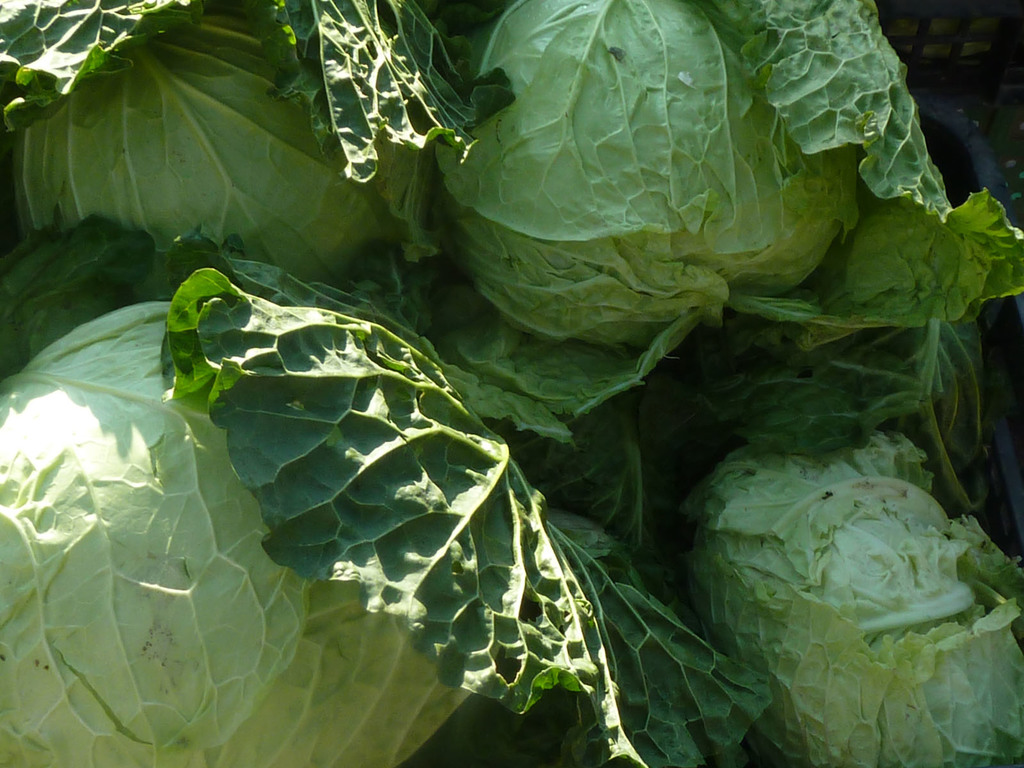Cabbage: (0, 0, 1023, 768)
